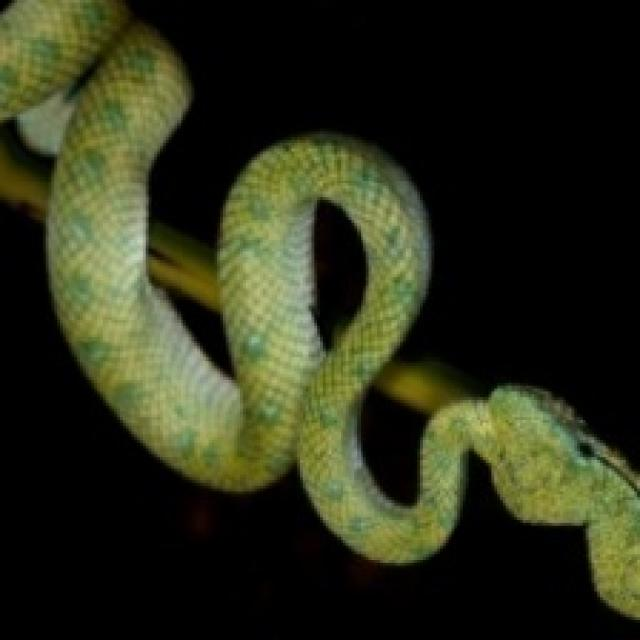north ph temple pitviper: (0, 0, 640, 616)
